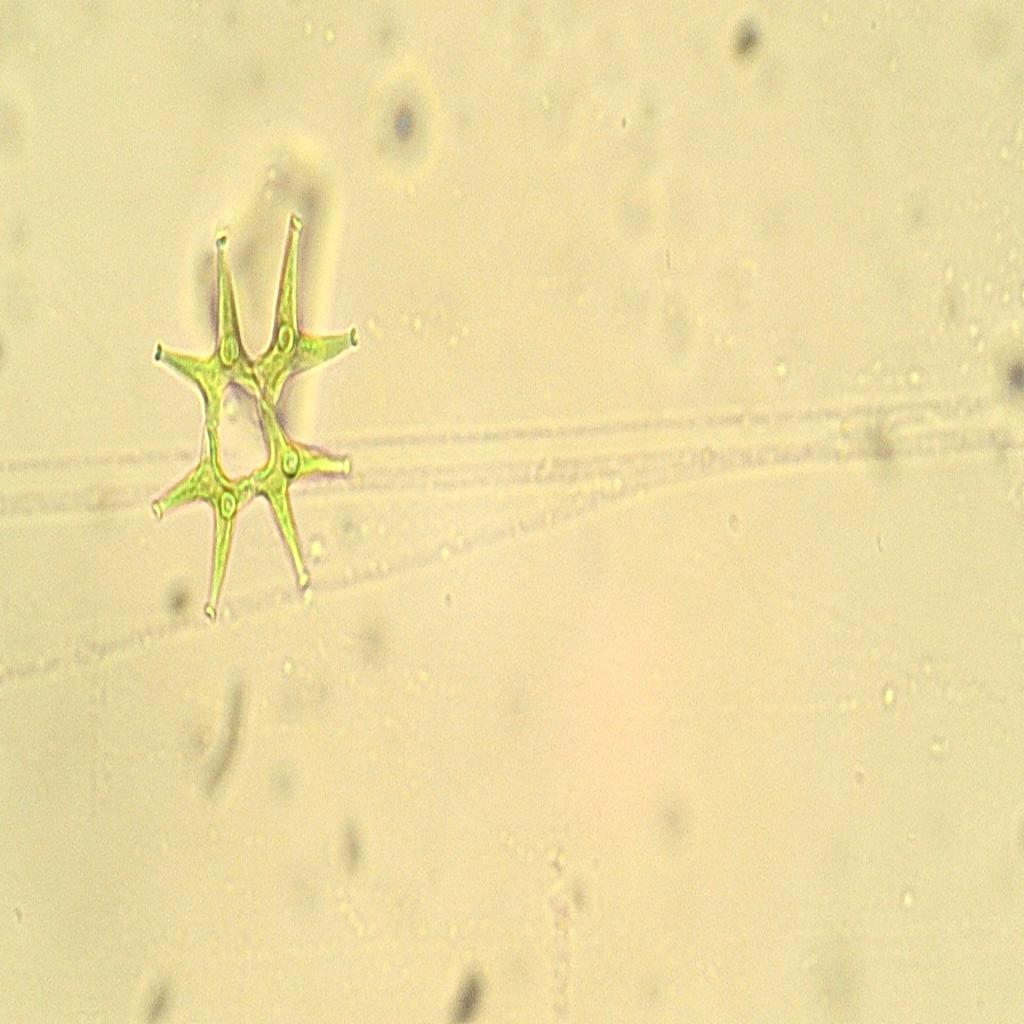Pediastrum_75FI: (127, 184, 381, 651)
